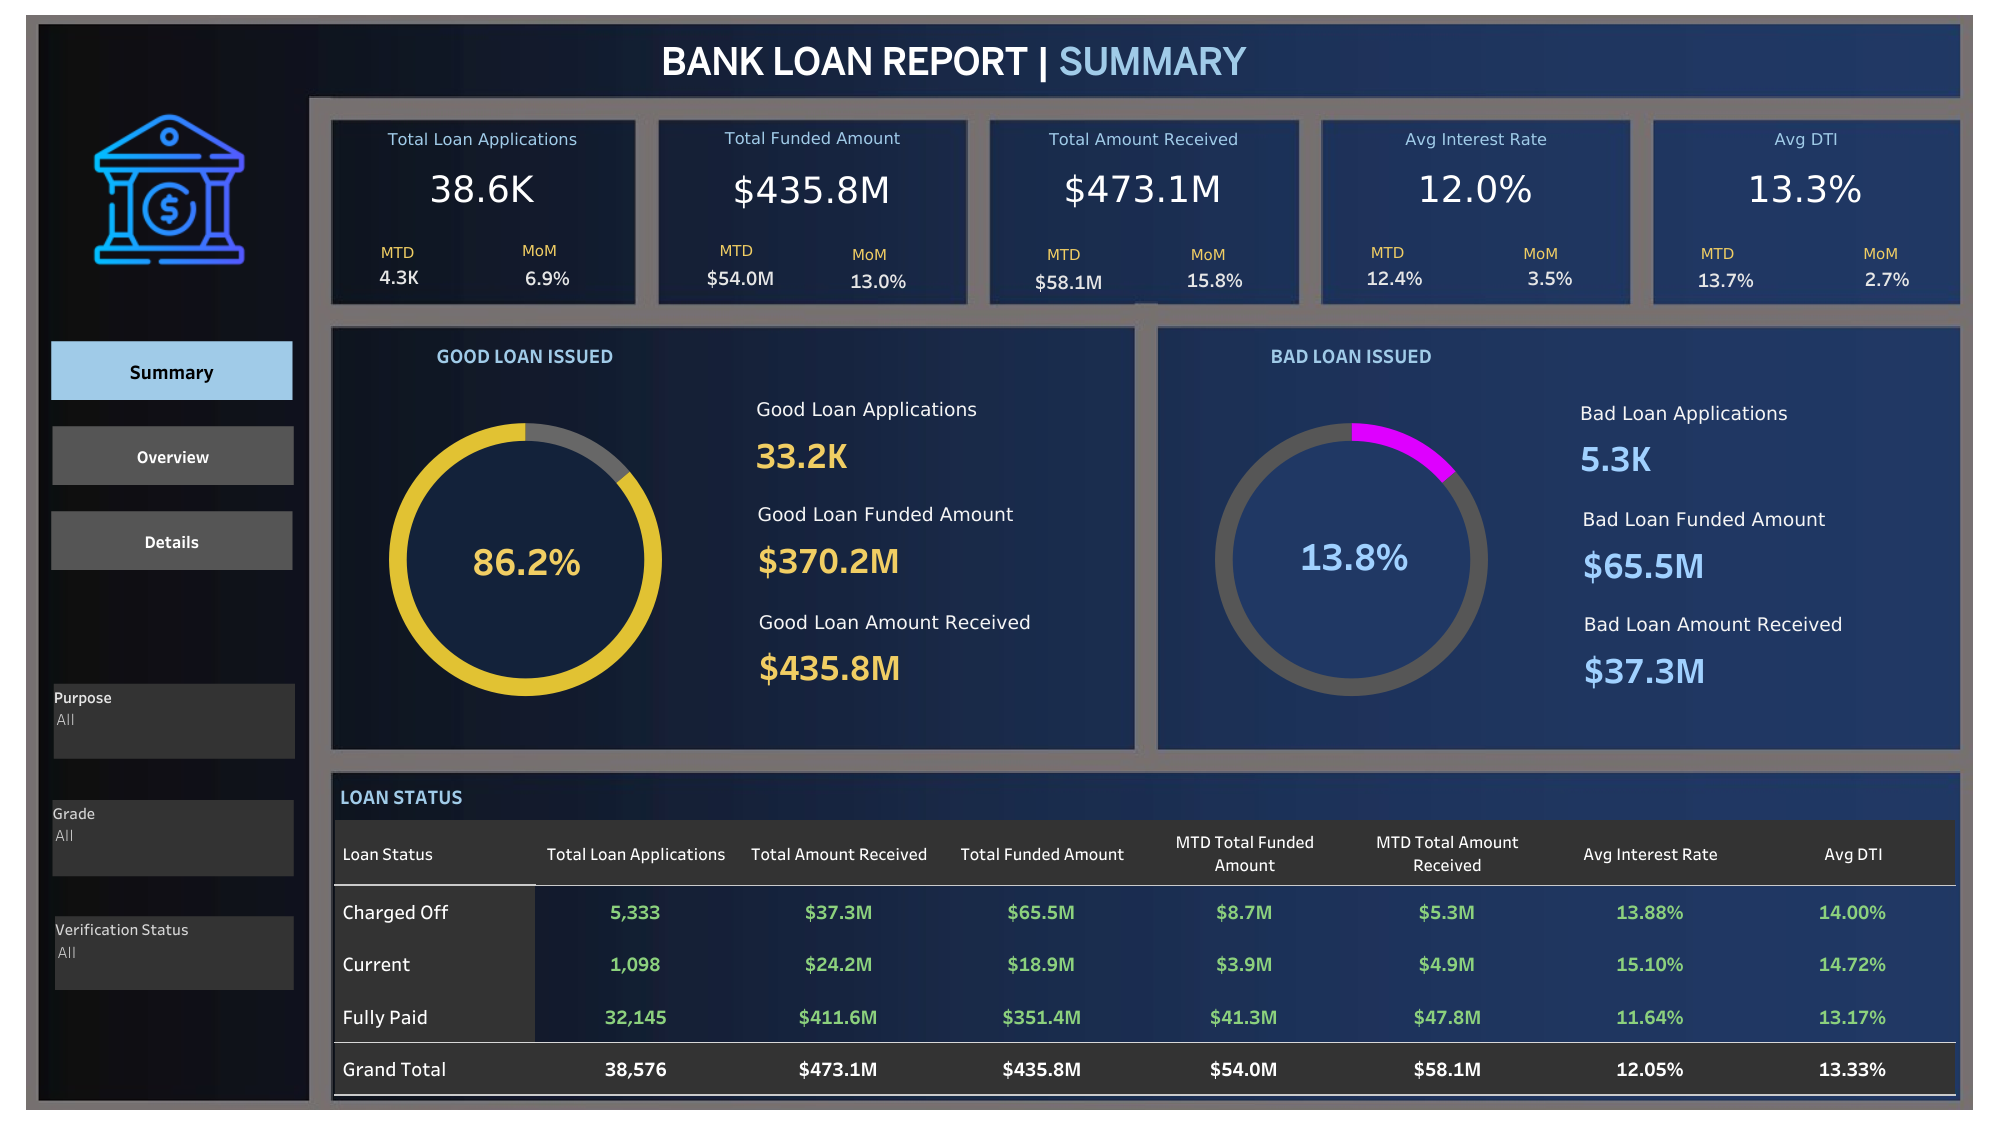

The dashboard page shown, as its layout file describes it:
{"tool":"tableau","page":{"name":"SUMMARY","canvas":[1600,900],"ordinal":2},"visuals":[{"type":"image","param":"Image/Tableau Background 1.jpg","box":[8,8,1584,884]},{"type":"text","box":[526,24,660,51]},{"type":"image","param":"Image/bank_9331464.png","box":[67,79,137,145]},{"type":"worksheet","title":"Total Funded Amount","mark":"Automatic","box":[528,96,244,80]},{"type":"worksheet","title":"Total Loan Applications","mark":"Automatic","box":[266,97,240,78]},{"type":"worksheet","title":"Total Amount Received","mark":"Automatic","box":[793,97,244,79]},{"type":"worksheet","title":"Avg Interest Rate","mark":"Automatic","box":[1059,97,244,79]},{"type":"worksheet","title":"Avg DTI","mark":"Automatic","box":[1324,97,242,79]},{"type":"text","box":[415,189,40,22]},{"type":"text","box":[573,189,39,23]},{"type":"text","box":[302,190,40,22]},{"type":"text","box":[1094,190,39,23]},{"type":"text","box":[1216,191,40,22]},{"type":"text","box":[1358,191,39,23]},{"type":"text","box":[1488,191,40,22]},{"type":"text","box":[679,192,40,22]},{"type":"text","box":[835,192,39,23]},{"type":"text","box":[950,192,40,22]},{"type":"worksheet","title":"MTD Total Funded Amount","mark":"Automatic","box":[550,208,86,28]},{"type":"worksheet","title":"MTD Avg Interest Rate","mark":"Automatic","box":[1079,208,73,27]},{"type":"worksheet","title":"MoM Avg Interest Rate","mark":"Automatic","box":[1211,208,58,28]},{"type":"worksheet","title":"MoM Loan Applications","mark":"Automatic","box":[412,209,52,26]},{"type":"worksheet","title":"MTD Total Loan Applications","mark":"Automatic","box":[294,210,52,22]},{"type":"worksheet","title":"MTD Avg DTI","mark":"Automatic","box":[1347,210,67,26]},{"type":"worksheet","title":"MoM Avg DTI","mark":"Automatic","box":[1481,210,59,24]},{"type":"worksheet","title":"MoM Total Funded Amount","mark":"Automatic","box":[667,212,72,23]},{"type":"worksheet","title":"MTD Total Amount Received","mark":"Automatic","box":[816,212,79,25]},{"type":"worksheet","title":"MoM Total Amount Received","mark":"Automatic","box":[938,213,68,22]},{"type":"worksheet","title":"Good Loan Issued","mark":"Pie","rows":["Calculation_27584582365704214","Calculation_27584582365704214"],"box":[270,267,300,325]},{"type":"worksheet","title":"Bad Loan Issued","mark":"Pie","rows":["Calculation_27584582365704214","Calculation_27584582365704214"],"box":[931,267,300,325]},{"type":"dashboard-object","box":[41,273,193,47]},{"type":"worksheet","title":"Good Loan Applications","mark":"Automatic","box":[597,309,300,75]},{"type":"worksheet","title":"Bad Loan Applications","mark":"Automatic","box":[1256,312,300,75]},{"type":"dashboard-object","box":[42,341,193,47]},{"type":"worksheet","title":"Good Loan Funded Amount","mark":"Automatic","box":[598,393,300,75]},{"type":"worksheet","title":"Bad Loan Funded Amount","mark":"Automatic","box":[1258,397,300,75]},{"type":"dashboard-object","box":[41,409,193,47]},{"type":"worksheet","title":"Bad Loan Application %","mark":"Automatic","box":[1016,412,135,64]},{"type":"worksheet","title":"Good Loan Application %","mark":"Automatic","box":[360,417,124,62]},{"type":"worksheet","title":"Good Loan Amount Received","mark":"Automatic","box":[599,479,300,75]},{"type":"worksheet","title":"Bad Loan Amount Received","mark":"Automatic","box":[1259,481,300,75]},{"type":"filter","title":"Good Loan Issued","param":"[federated.0aim52818chl1713h0jb8159vocc].[none:purpose:nk]","box":[43,547,193,60]},{"type":"worksheet","title":"LOAN STATUS","mark":"Automatic","rows":["loan_status"],"box":[268,620,1297,257]},{"type":"filter","title":"Good Loan Issued","param":"[federated.0aim52818chl1713h0jb8159vocc].[none:grade:nk]","box":[42,640,193,61]},{"type":"filter","title":"Good Loan Issued","param":"[federated.0aim52818chl1713h0jb8159vocc].[none:verification_status:nk]","box":[44,733,191,59]}]}

Visuals, with their boxes in screenshot pixels (x1, y1, x2, y2), scaled from the page's 1600x900 canvas onto the 1999x1124 screenshot:
image: left=10, top=10, right=1989, bottom=1114
text: left=657, top=30, right=1482, bottom=94
image: left=84, top=99, right=255, bottom=280
"Total Funded Amount" worksheet: left=660, top=120, right=965, bottom=220
"Total Loan Applications" worksheet: left=332, top=121, right=632, bottom=219
"Total Amount Received" worksheet: left=991, top=121, right=1296, bottom=220
"Avg Interest Rate" worksheet: left=1323, top=121, right=1628, bottom=220
"Avg DTI" worksheet: left=1654, top=121, right=1957, bottom=220
text: left=518, top=236, right=568, bottom=264
text: left=716, top=236, right=765, bottom=265
text: left=377, top=237, right=427, bottom=265
text: left=1367, top=237, right=1416, bottom=266
text: left=1519, top=239, right=1569, bottom=266
text: left=1697, top=239, right=1745, bottom=267
text: left=1859, top=239, right=1909, bottom=266
text: left=848, top=240, right=898, bottom=267
text: left=1043, top=240, right=1092, bottom=269
text: left=1187, top=240, right=1237, bottom=267
"MTD Total Funded Amount" worksheet: left=687, top=260, right=795, bottom=295
"MTD Avg Interest Rate" worksheet: left=1348, top=260, right=1439, bottom=293
"MoM Avg Interest Rate" worksheet: left=1513, top=260, right=1585, bottom=295
"MoM Loan Applications" worksheet: left=515, top=261, right=580, bottom=293
"MTD Total Loan Applications" worksheet: left=367, top=262, right=432, bottom=290
"MTD Avg DTI" worksheet: left=1683, top=262, right=1767, bottom=295
"MoM Avg DTI" worksheet: left=1850, top=262, right=1924, bottom=292
"MoM Total Funded Amount" worksheet: left=833, top=265, right=923, bottom=293
"MTD Total Amount Received" worksheet: left=1019, top=265, right=1118, bottom=296
"MoM Total Amount Received" worksheet: left=1172, top=266, right=1257, bottom=293
"Good Loan Issued" worksheet (Pie marks): left=337, top=333, right=712, bottom=739
"Bad Loan Issued" worksheet (Pie marks): left=1163, top=333, right=1538, bottom=739
dashboard-object: left=51, top=341, right=292, bottom=400
"Good Loan Applications" worksheet: left=746, top=386, right=1121, bottom=480
"Bad Loan Applications" worksheet: left=1569, top=390, right=1944, bottom=483
dashboard-object: left=52, top=426, right=294, bottom=485
"Good Loan Funded Amount" worksheet: left=747, top=491, right=1122, bottom=584
"Bad Loan Funded Amount" worksheet: left=1572, top=496, right=1947, bottom=589
dashboard-object: left=51, top=511, right=292, bottom=569
"Bad Loan Application %" worksheet: left=1269, top=515, right=1438, bottom=594
"Good Loan Application %" worksheet: left=450, top=521, right=605, bottom=598
"Good Loan Amount Received" worksheet: left=748, top=598, right=1123, bottom=692
"Bad Loan Amount Received" worksheet: left=1573, top=601, right=1948, bottom=694
"Good Loan Issued" filter: left=54, top=683, right=295, bottom=758
"LOAN STATUS" worksheet: left=335, top=774, right=1955, bottom=1095
"Good Loan Issued" filter: left=52, top=799, right=294, bottom=875
"Good Loan Issued" filter: left=55, top=915, right=294, bottom=989
